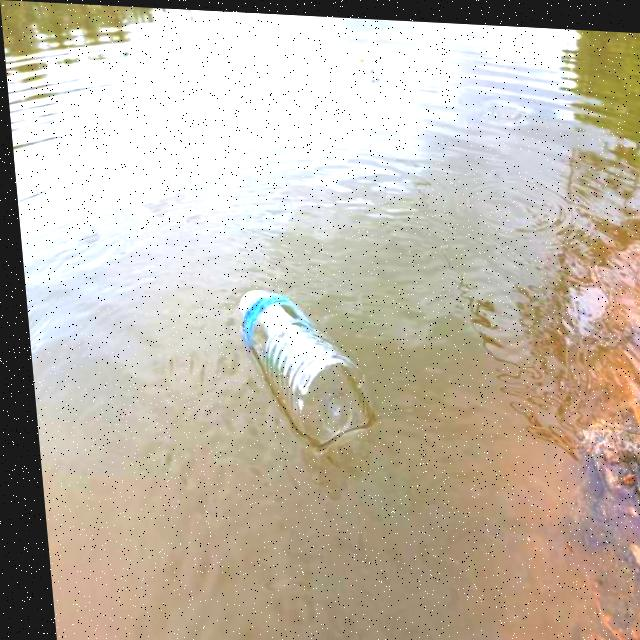waterbottle: (211, 277, 372, 445)
